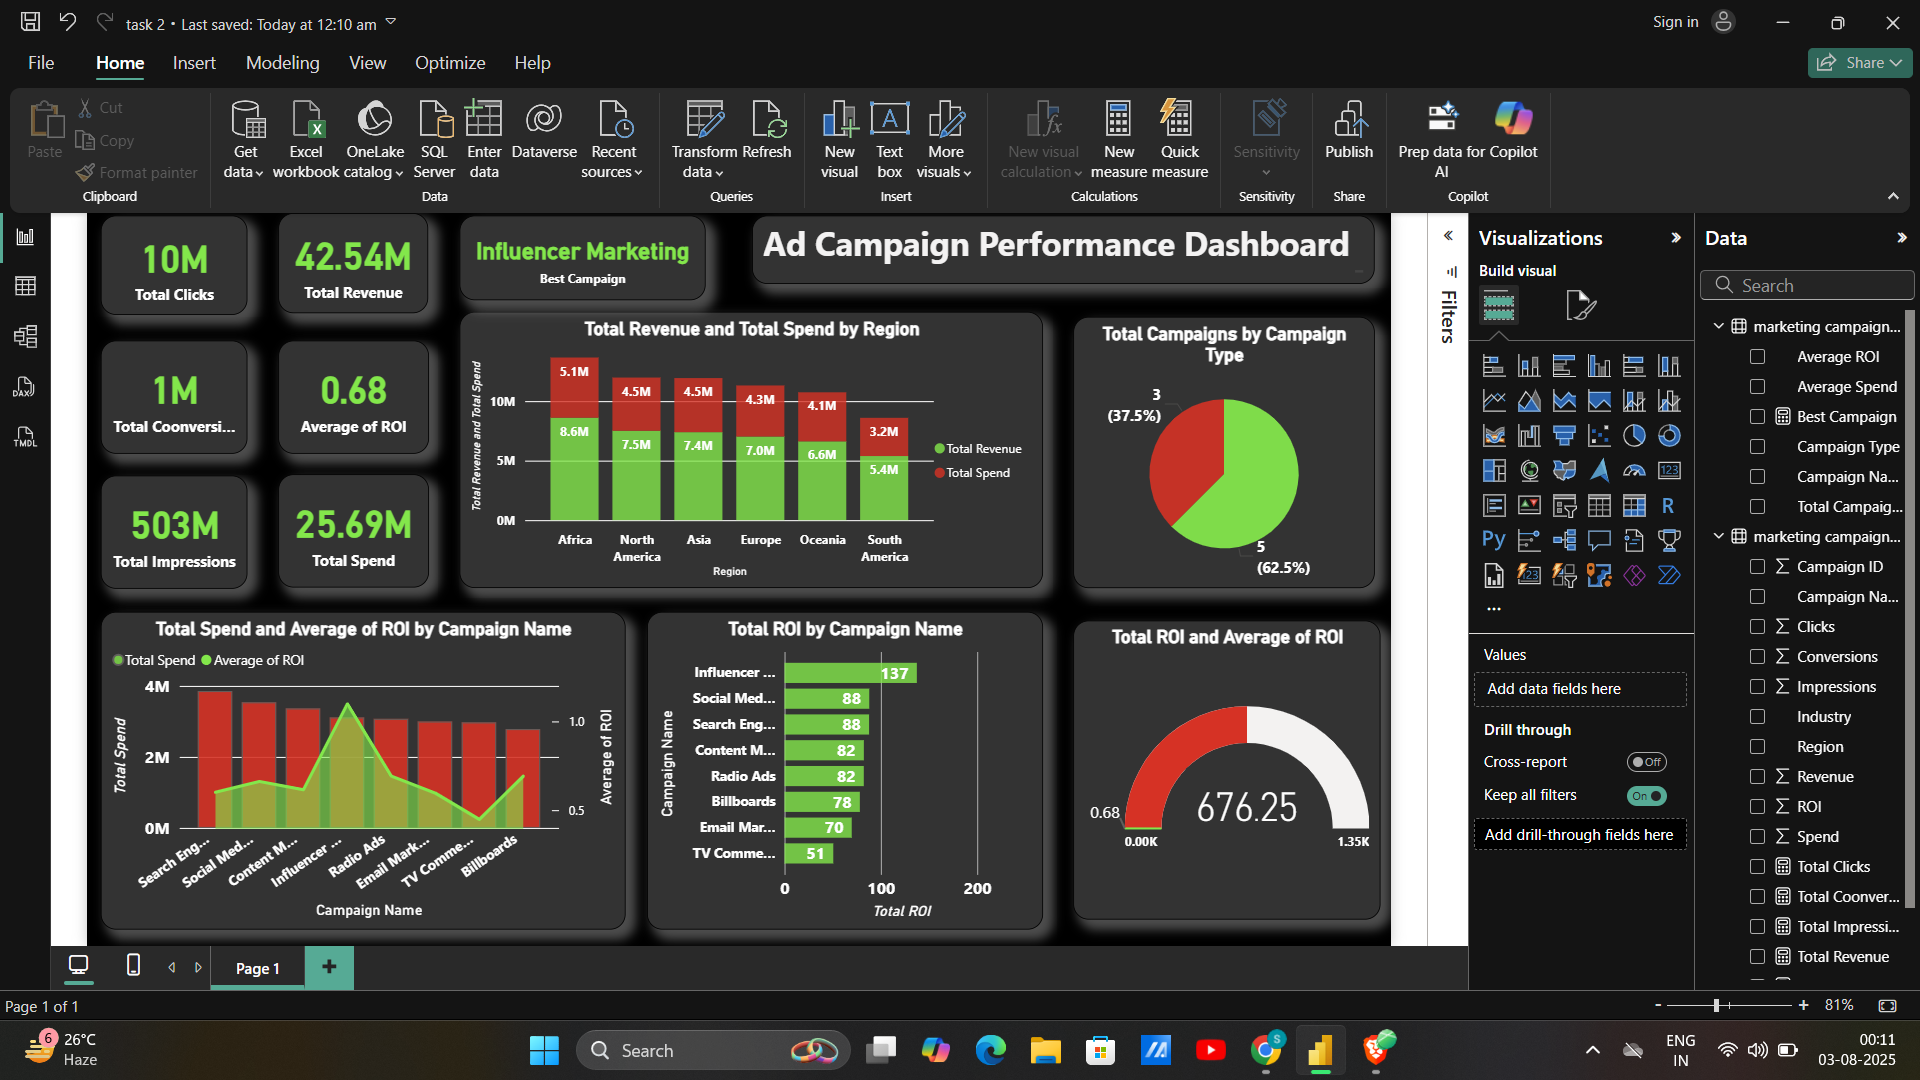

What the dashboard file says about the page in this screenshot:
{"tool":"powerbi","page":{"name":"Page 1","canvas":[1280,720],"ordinal":0},"visuals":[{"type":"textbox","title":"Ad Campaign Performance Dashboard","box":[652.8,2.5,611,67.5],"z":0},{"type":"card","fields":{"Values":["marketing campaign performance.Total Clicks"]},"box":[13.1,2.4,144.2,97.7],"z":1000},{"type":"card","fields":{"Values":["Avg(marketing campaign performance.ROI)"]},"box":[187.1,125.2,147.8,110.9],"z":2000},{"type":"card","fields":{"Values":["marketing campaign performance.Total Coonversions"]},"box":[13.1,125.2,144.2,110.9],"z":3000},{"type":"card","fields":{"Values":["marketing campaign performance.Total Revenue"]},"box":[187.7,0,147.2,98.2],"z":4000},{"type":"card","fields":{"Values":["marketing campaign performance.Total Impressions"]},"box":[13.1,257.5,144.2,110.9],"z":5000},{"type":"card","fields":{"Values":["marketing campaign performance.Tootal Spend"]},"box":[187.1,256.3,147.8,110.9],"z":6000},{"type":"columnChart","fields":{"Y":["marketing campaign performance.Total Revenue","marketing campaign performance.Total Spend"],"Category":["marketing campaign performance.Region"]},"box":[365.6,101.8,573,271.2],"z":7000},{"type":"lineClusteredColumnComboChart","fields":{"Category":["marketing campaign performance.Campaign Name"],"Y":["marketing campaign performance.Total Spend"],"Y2":["Avg(marketing campaign performance.ROI)"]},"box":[13.1,391,515,312.3],"z":8000},{"type":"barChart","fields":{"Category":["marketing campaign performance.Campaign Name"],"Y":["marketing campaign performance.Total ROI"]},"box":[549.5,391,388.6,312.3],"z":9000},{"type":"gauge","fields":{"TargetValue":["Avg(marketing campaign performance.ROI)"],"Y":["marketing campaign performance.Total ROI"]},"box":[967.9,400.5,301.6,293.2],"z":10000},{"type":"pieChart","title":" Total Campaigns by Campaign  Type","fields":{"Category":["marketing campaign details.Campaign  Type"],"Y":["CountNonNull(marketing campaign details.Total Campaigns)"]},"box":[968.1,101.8,295.7,266.3],"z":11000},{"type":"card","fields":{"Values":["marketing campaign details.Best Campaign"]},"box":[365.6,2.5,241.7,83.4],"z":12000}]}

Visuals, with their boxes on the page's 1280x720 design canvas (x1, y1, x2, y2). These are canvas units, not pixel positions in the 1920x1080 screenshot, which may show the page scaled, cropped or inside an application window:
"Ad Campaign Performance Dashboard" textbox: 653/2/1264/70
card - marketing campaign performance.Total Clicks: 13/2/157/100
card - Avg(marketing campaign performance.ROI): 187/125/335/236
card - marketing campaign performance.Total Coonversions: 13/125/157/236
card - marketing campaign performance.Total Revenue: 188/0/335/98
card - marketing campaign performance.Total Impressions: 13/258/157/368
card - marketing campaign performance.Tootal Spend: 187/256/335/367
columnChart - marketing campaign performance.Total Revenue x marketing campaign performance.Total Spend: 366/102/939/373
lineClusteredColumnComboChart - marketing campaign performance.Campaign Name x marketing campaign performance.Total Spend: 13/391/528/703
barChart - marketing campaign performance.Campaign Name x marketing campaign performance.Total ROI: 550/391/938/703
gauge - Avg(marketing campaign performance.ROI) x marketing campaign performance.Total ROI: 968/400/1270/694
" Total Campaigns by Campaign  Type" pieChart: 968/102/1264/368
card - marketing campaign details.Best Campaign: 366/2/607/86
